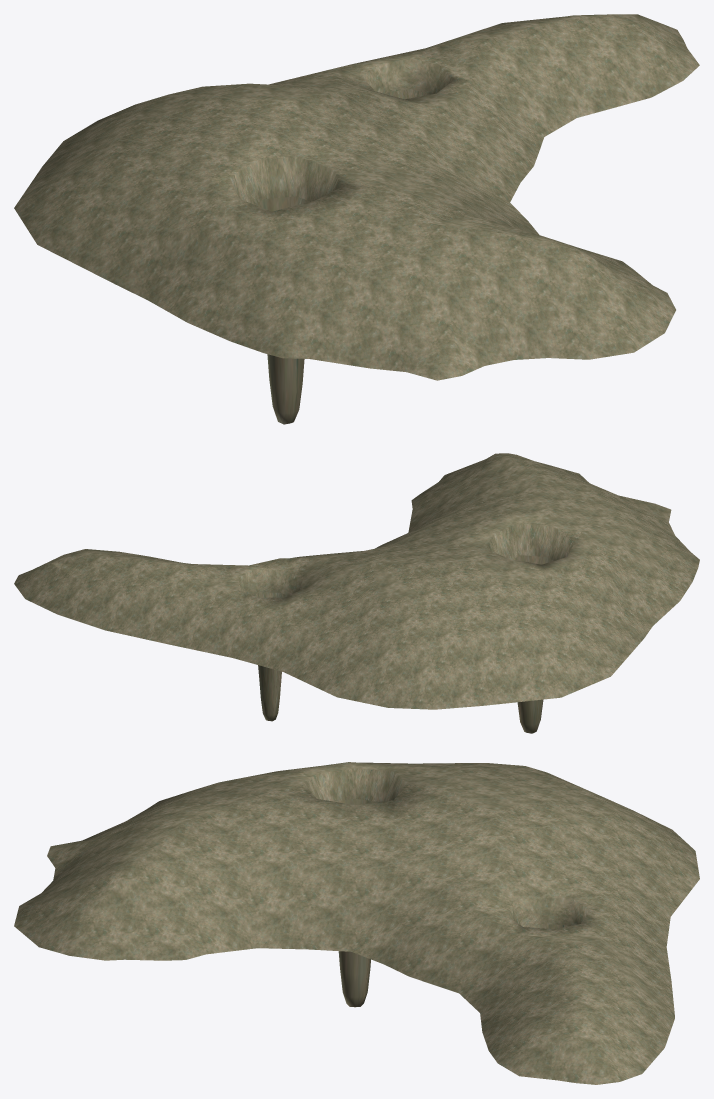
Rendered from OVERHILL_A_01_OBJECT352.fbx.
The picture shows the model from 3 angles, top to bottom: view 1: azimuth 30°, elevation 25°; view 2: azimuth 150°, elevation 25°; view 3: azimuth 270°, elevation 25°; orthographic projection. The views are drawn at different scales.
Parts seen in each view (by area): view 1: OVERHILL_A_01_OBJECT352; view 2: OVERHILL_A_01_OBJECT352; view 3: OVERHILL_A_01_OBJECT352.
Boxes of the visible parts, <box> form: OVERHILL_A_01_OBJECT352: <box>14,14,699,424</box>; OVERHILL_A_01_OBJECT352: <box>14,453,699,733</box>; OVERHILL_A_01_OBJECT352: <box>14,762,699,1084</box>.
Bounding box in the file's own units: 282933 × 96917 × 261768.
1 material, 1 textured.
